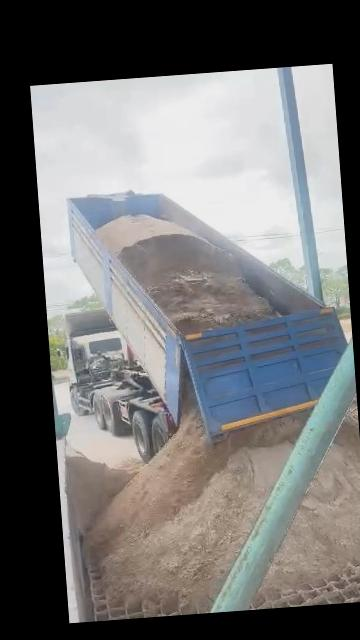sand: (87, 399, 305, 614), (97, 215, 276, 332), (263, 423, 360, 588), (67, 455, 137, 533)
